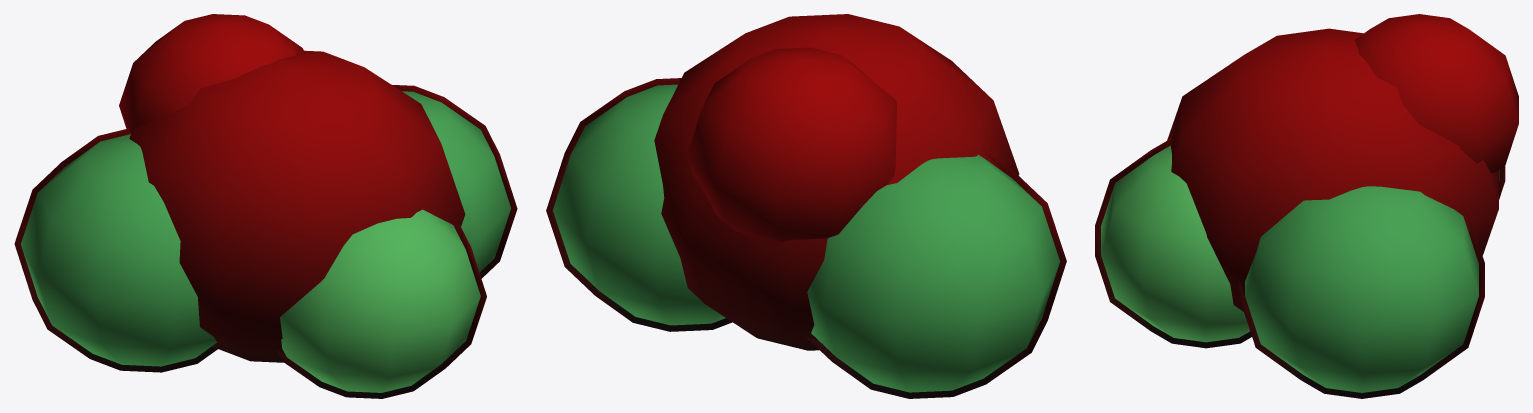
The model's file is SM_Island_Bush_A.fbx.
3 renders of one model, left to right at view 1: azimuth 30°, elevation 25°; view 2: azimuth 150°, elevation 25°; view 3: azimuth 270°, elevation 25°, orthographic. The views are drawn at different scales.
Visible parts, largest first — view 1: SM_Island_Bush_A_Outline, SM_Island_Bush_A; view 2: SM_Island_Bush_A_Outline, SM_Island_Bush_A; view 3: SM_Island_Bush_A_Outline, SM_Island_Bush_A.
Boxes of the visible parts, x1,y1,x2,y2 form: SM_Island_Bush_A_Outline: (14,14,517,398); SM_Island_Bush_A: (21,91,510,392); SM_Island_Bush_A_Outline: (546,14,1066,398); SM_Island_Bush_A: (553,84,1059,392); SM_Island_Bush_A_Outline: (1095,14,1518,398); SM_Island_Bush_A: (1101,145,1499,392).
Size of the model in its own units: 1.29 by 0.7949 by 1.03.
2 materials, 1 textured.
